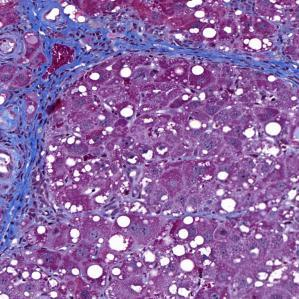fibrosis: (16, 5, 142, 94)
